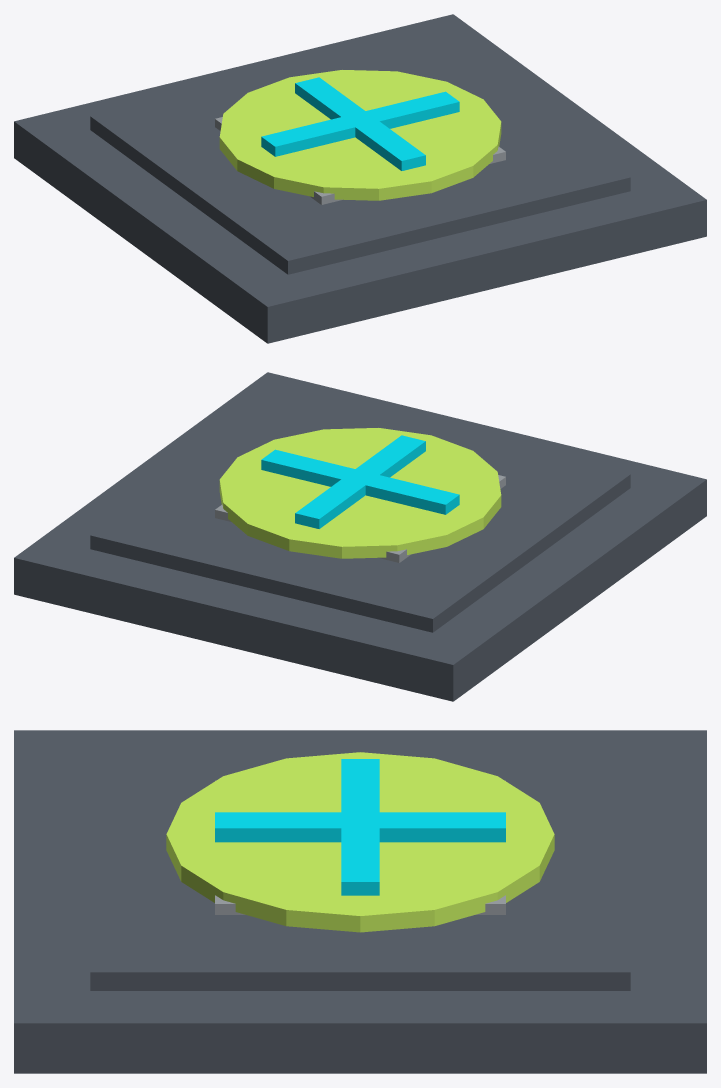
The model's file is TD_BuildTile.fbx.
3 renders of one model, top to bottom at view 1: azimuth 30°, elevation 25°; view 2: azimuth 150°, elevation 25°; view 3: azimuth 270°, elevation 25°, orthographic. The views are drawn at different scales.
Parts seen in each view (by area): view 1: TD_BuildTile_BasePlate, TD_BuildTile_Surface, TD_BuildTile_BuildCircle, TD_BuildTile_BuildPlus_Horizontal, TD_BuildTile_BuildPlus_Vertical; view 2: TD_BuildTile_BasePlate, TD_BuildTile_Surface, TD_BuildTile_BuildCircle, TD_BuildTile_BuildPlus_Horizontal, TD_BuildTile_BuildPlus_Vertical; view 3: TD_BuildTile_BasePlate, TD_BuildTile_Surface, TD_BuildTile_BuildCircle, TD_BuildTile_BuildPlus_Vertical, TD_BuildTile_BuildPlus_Horizontal, TD_BuildTile_PlatformPlate.
Part boxes in pixels (bbox=[...]): TD_BuildTile_BasePlate: bbox=[14, 14, 706, 343]; TD_BuildTile_Surface: bbox=[90, 32, 630, 274]; TD_BuildTile_BuildCircle: bbox=[219, 70, 501, 200]; TD_BuildTile_BuildPlus_Horizontal: bbox=[261, 91, 459, 156]; TD_BuildTile_BuildPlus_Vertical: bbox=[295, 77, 425, 170]; TD_BuildTile_BasePlate: bbox=[14, 372, 706, 701]; TD_BuildTile_Surface: bbox=[90, 390, 630, 632]; TD_BuildTile_BuildCircle: bbox=[219, 428, 501, 558]; TD_BuildTile_BuildPlus_Horizontal: bbox=[261, 449, 459, 514]; TD_BuildTile_BuildPlus_Vertical: bbox=[295, 435, 425, 528]; TD_BuildTile_BasePlate: bbox=[14, 730, 706, 1073]; TD_BuildTile_Surface: bbox=[90, 743, 630, 990]; TD_BuildTile_BuildCircle: bbox=[166, 752, 554, 932]; TD_BuildTile_BuildPlus_Vertical: bbox=[215, 812, 505, 842]; TD_BuildTile_BuildPlus_Horizontal: bbox=[341, 759, 379, 895]; TD_BuildTile_PlatformPlate: bbox=[215, 780, 505, 914].
Bounding box in the file's own units: 100 × 17 × 100.
